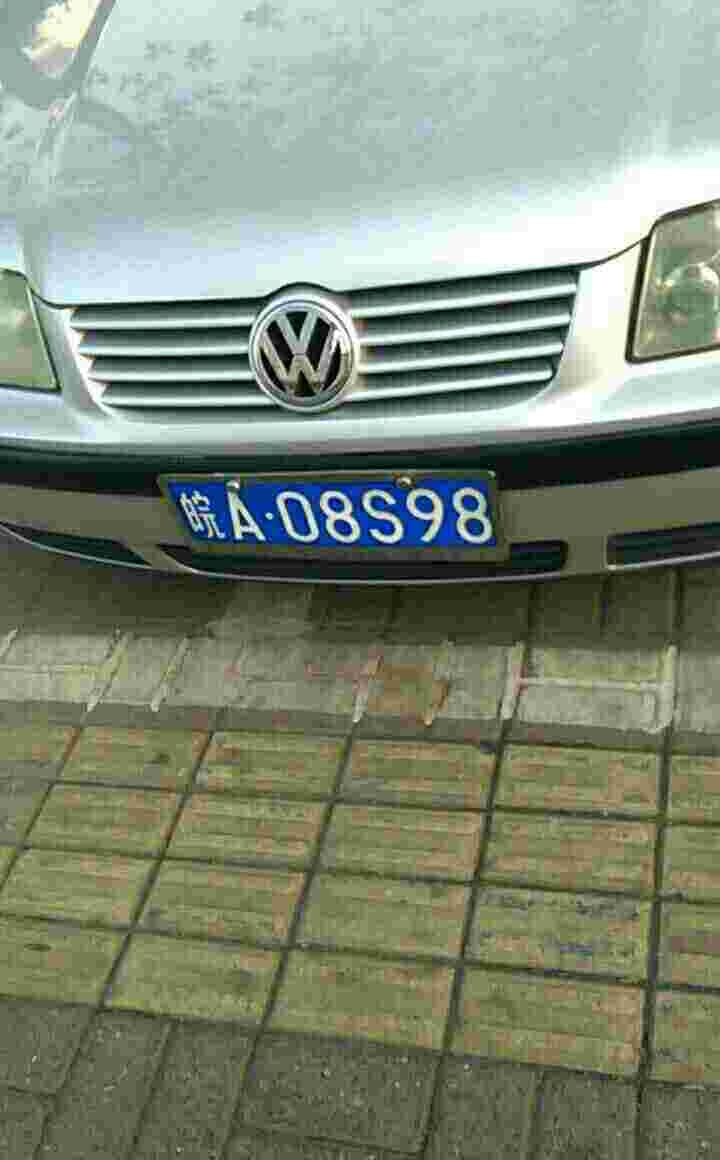license_plate: (163, 478, 495, 551)
